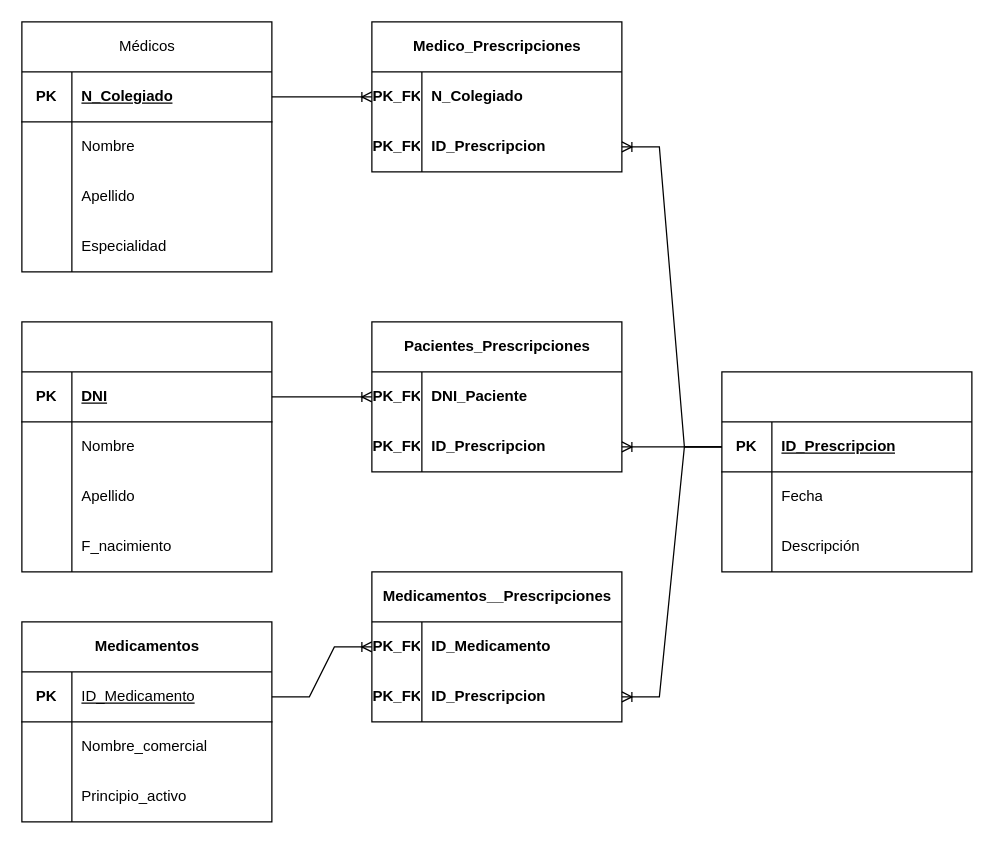
Image size: 994x844. Some labels were removed from this diagram. The box of each missing label's shape, as (x1, y1, x2, y2) in pixels:
Pacientes: (21, 321, 272, 572)
Prescripciones: (721, 371, 972, 572)
